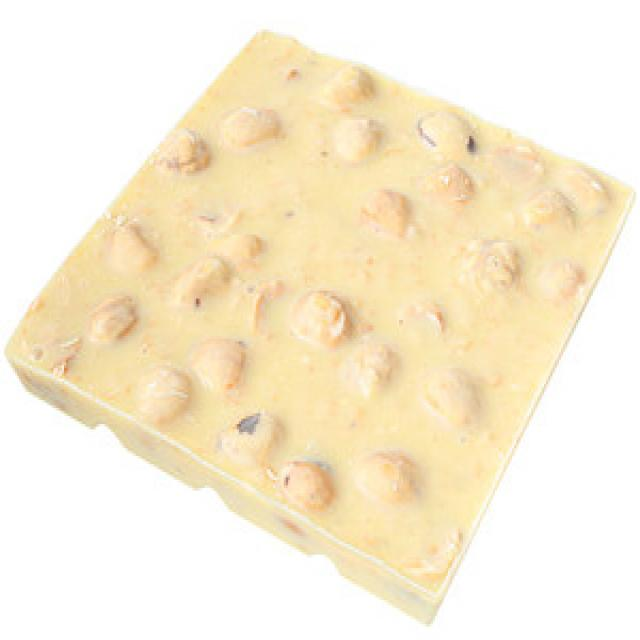chocolate: (9, 25, 640, 615)
